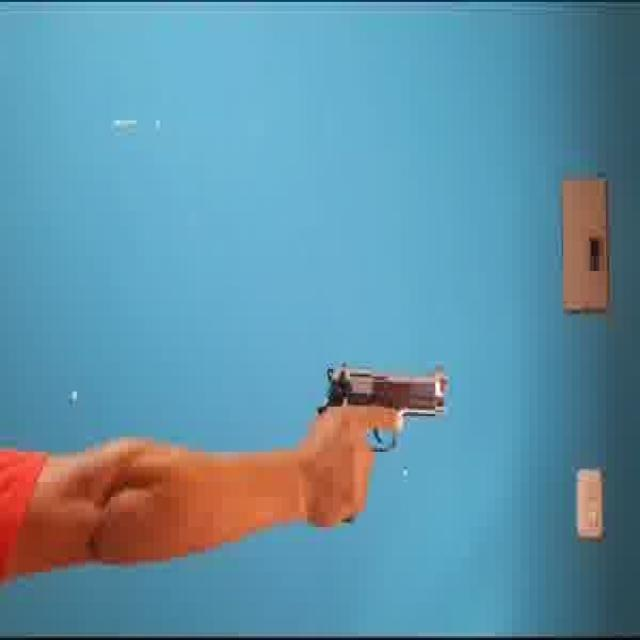weapon: (316, 358, 453, 452)
